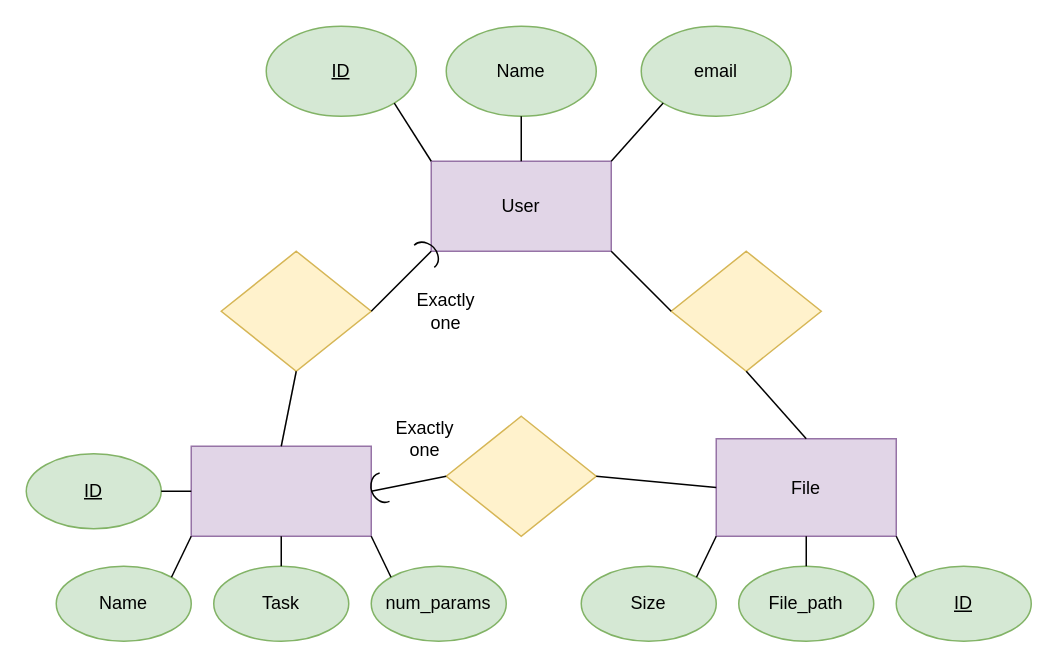
Some shapes in this 1058 by 668 pixel diagram are drawn without their labels. Here are the shapes that lost their labels. From the top down, the centre of each, then its label:
At (x=295, y=310): "Develope".
At (x=745, y=310): "Download".
At (x=280, y=490): "Model".
At (x=520, y=475): "Utilize".
